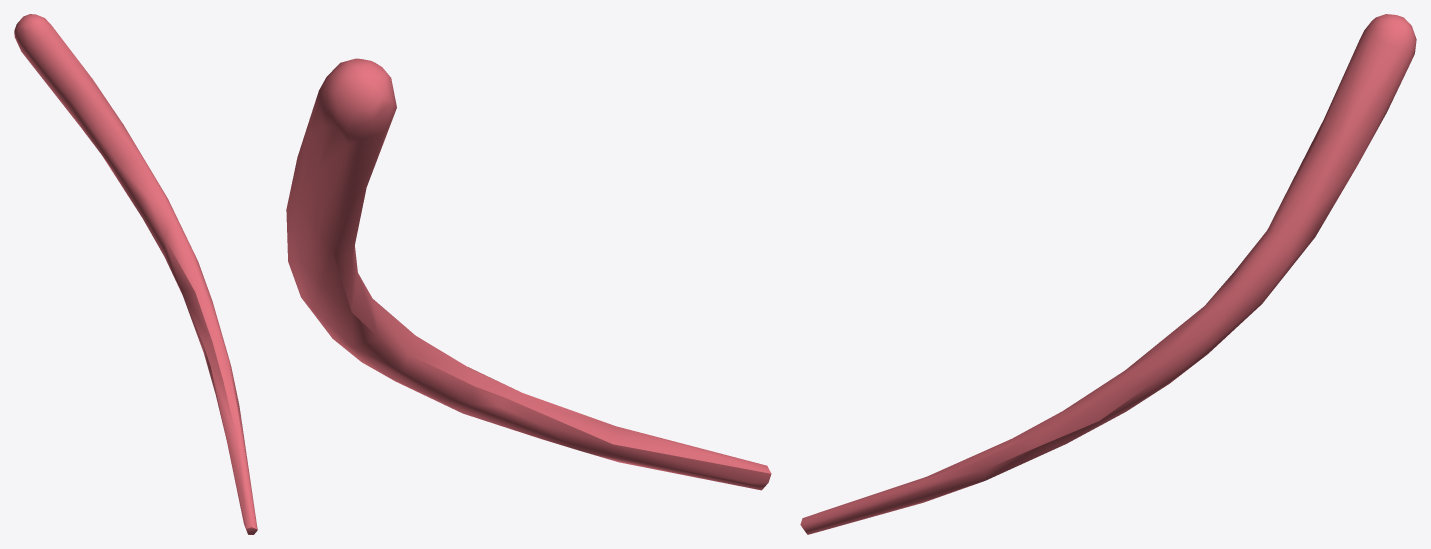
The model's file is fma8669_fj2934.glb.
3 renders of one model, left to right at view 1: azimuth 30°, elevation 25°; view 2: azimuth 150°, elevation 25°; view 3: azimuth 270°, elevation 25°, orthographic. The views are drawn at different scales.
Visible parts, largest first — view 1: FMA8669_FJ2934; view 2: FMA8669_FJ2934; view 3: FMA8669_FJ2934.
Part boxes in pixels (x1,y1,x2,y2): FMA8669_FJ2934: (14, 14, 257, 534); FMA8669_FJ2934: (286, 58, 771, 490); FMA8669_FJ2934: (800, 14, 1416, 534).
Bounding box in the file's own units: 0.0139 × 0.0478 × 0.0523.
